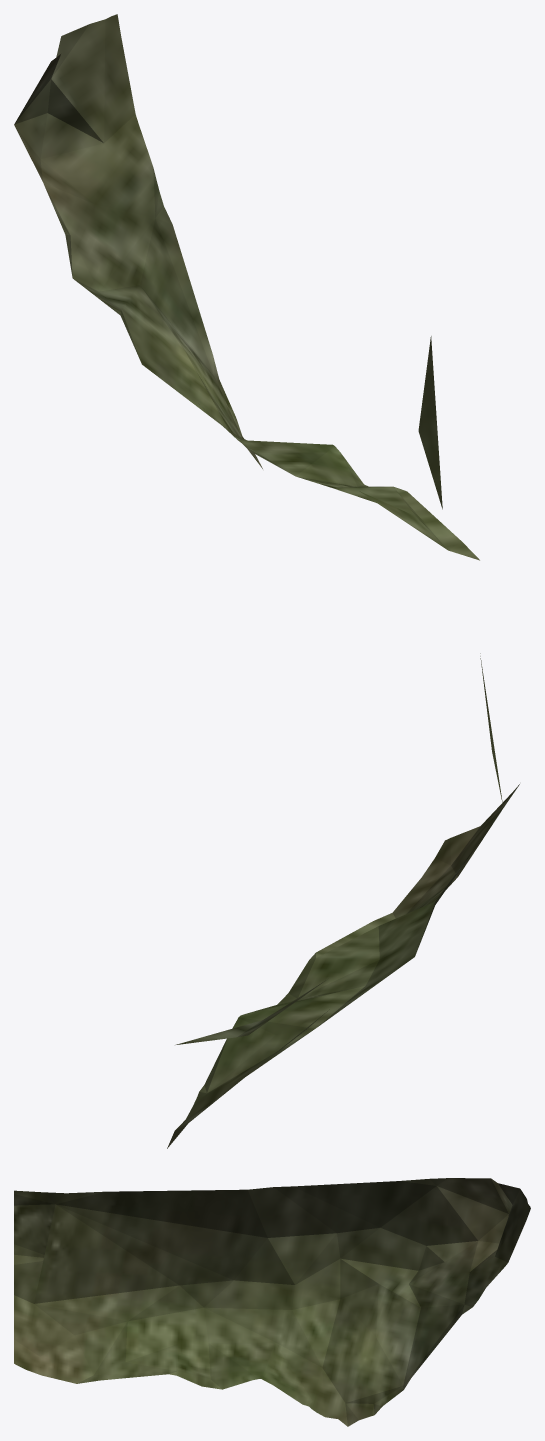
3 views of the same model, one above another, from view 1: azimuth 30°, elevation 25°; view 2: azimuth 150°, elevation 25°; view 3: azimuth 270°, elevation 25° (orthographic). The views are drawn at different scales.
Size of the model in its own units: 0.33 by 0.7371 by 1.58.
1 material, 1 textured.
